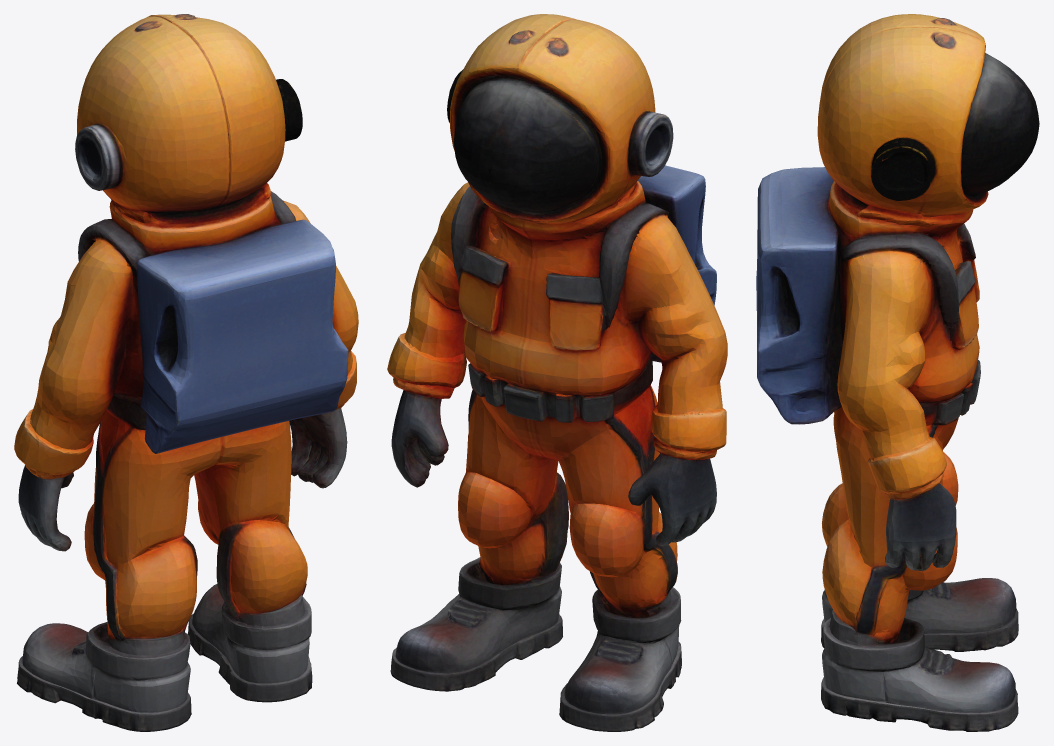
File: High_quality.glb
3 renders of one model, left to right at view 1: azimuth 30°, elevation 25°; view 2: azimuth 150°, elevation 25°; view 3: azimuth 270°, elevation 25°, orthographic.
Parts seen in each view (by area): view 1: world; view 2: world; view 3: world.
Part boxes in pixels (box(x1,y1,x2,y2)): world: box(14, 14, 358, 731); world: box(387, 14, 727, 731); world: box(756, 14, 1039, 731).
Size of the model in its own units: 0.5371 by 1 by 0.3988.
1 material, 1 textured.
